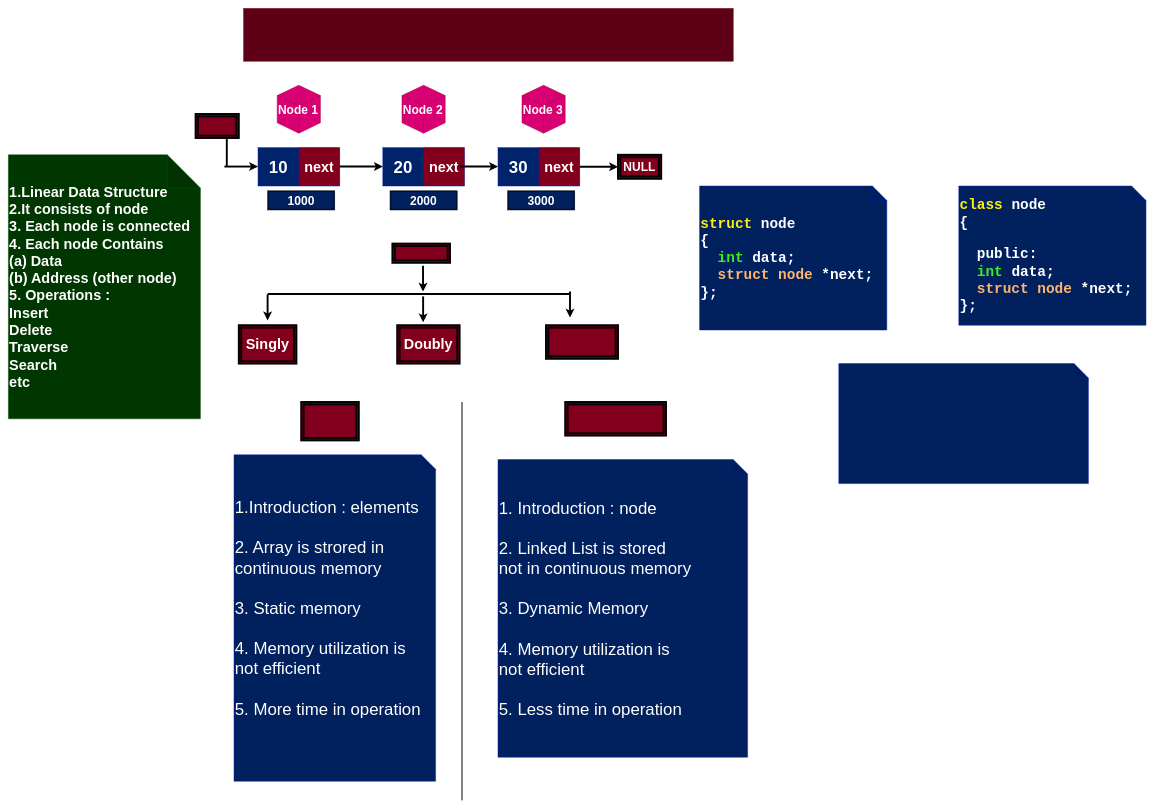
Some shapes in this 1154 by 809 pixel diagram are drawn without their labels. Here are the shapes that lost their labels. From the top down, the centre of each, then its label:
At point (488, 34): "Data Structure & Algorithm | Linked List Operation Create and Traversal".
At point (217, 126): "Head".
At point (421, 253): "Types".
At point (582, 342): "Circular".
At point (330, 421): "Array".
At point (615, 418): "Linked List".
At point (963, 423): "First node Pointer,Reference is enough to access the whole linked List data.".
